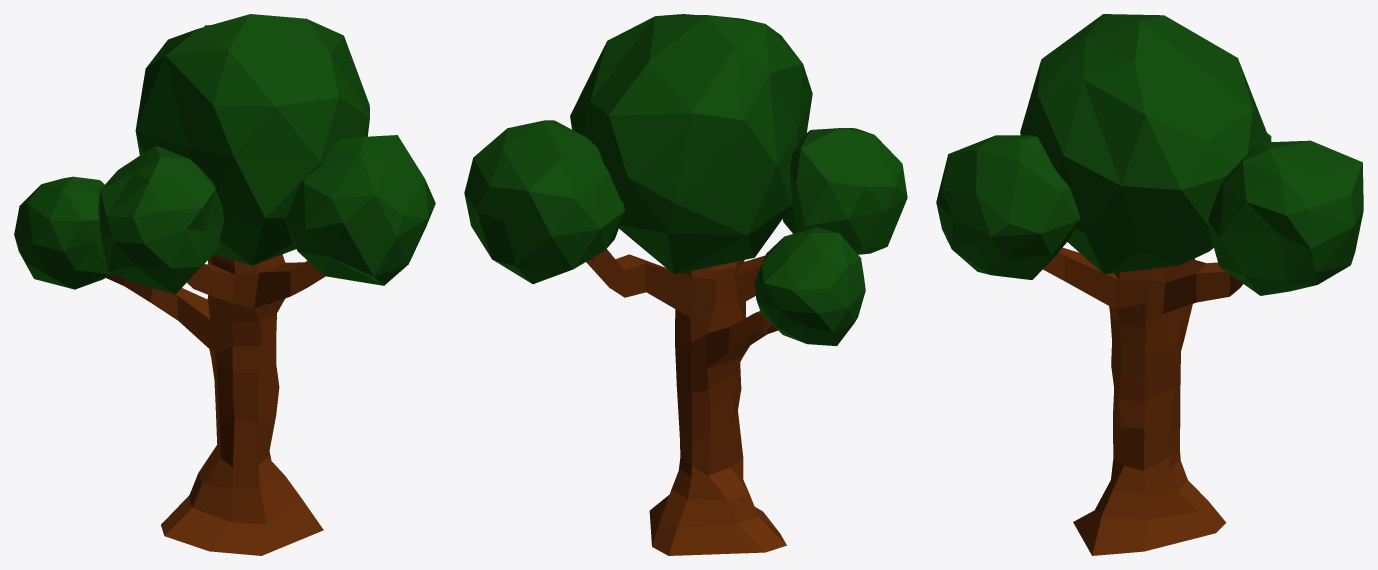
Rendered from liesanneTree.fbx.
The picture shows the model from 3 angles, left to right: view 1: azimuth 30°, elevation 25°; view 2: azimuth 150°, elevation 25°; view 3: azimuth 270°, elevation 25°; orthographic projection.
Parts seen in each view (by area): view 1: Cylinder; view 2: Cylinder; view 3: Cylinder.
Boxes of the visible parts, left/top/right/bottom form: Cylinder: left=14, top=14, right=435, bottom=555; Cylinder: left=464, top=14, right=907, bottom=555; Cylinder: left=936, top=14, right=1363, bottom=555.
Size of the model in its own units: 112116 by 159604 by 120806.
